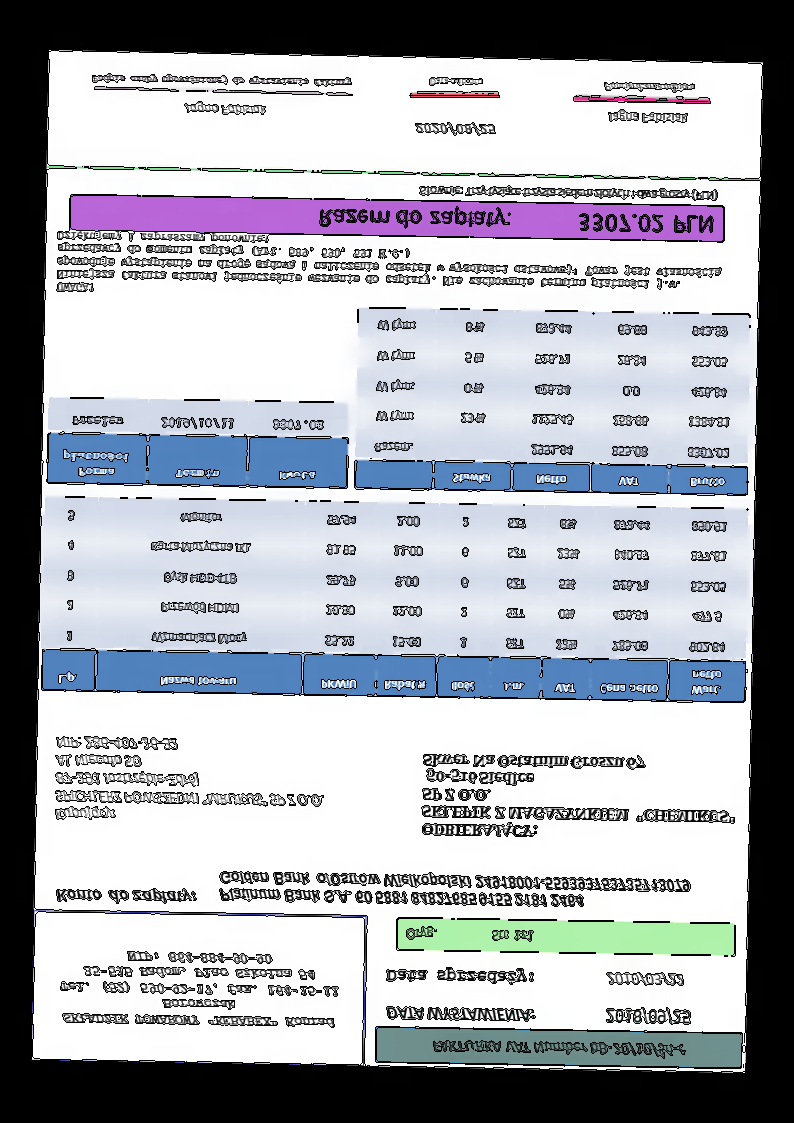Table: (39, 496, 750, 705), (354, 306, 751, 496), (45, 395, 350, 491)
TextBox: (54, 227, 722, 305), (420, 751, 737, 842), (51, 734, 325, 828), (59, 948, 342, 1031), (216, 868, 691, 913), (316, 202, 715, 238), (417, 182, 719, 204), (429, 1036, 689, 1059), (89, 71, 353, 90), (384, 964, 537, 988), (53, 884, 198, 907), (384, 1004, 538, 1024), (403, 924, 536, 944), (603, 1006, 693, 1028), (601, 79, 697, 96), (605, 109, 688, 126), (605, 971, 686, 987), (182, 102, 267, 117), (413, 121, 497, 136), (427, 75, 485, 89)
